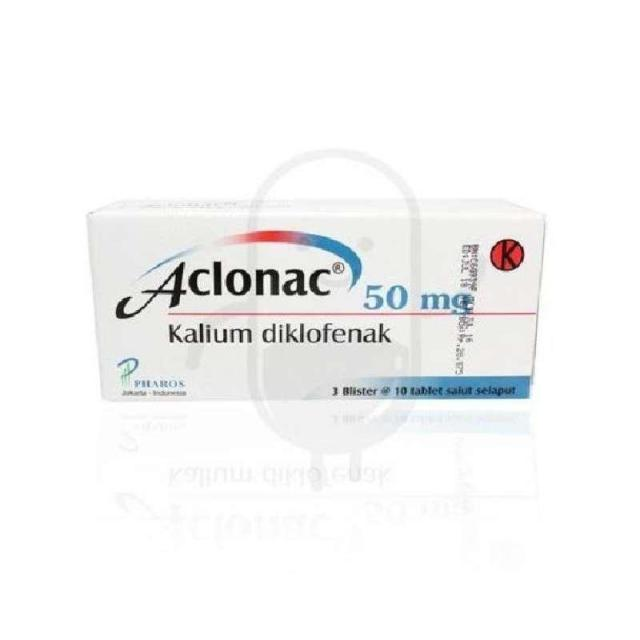drug-name: (102, 260, 343, 322)
